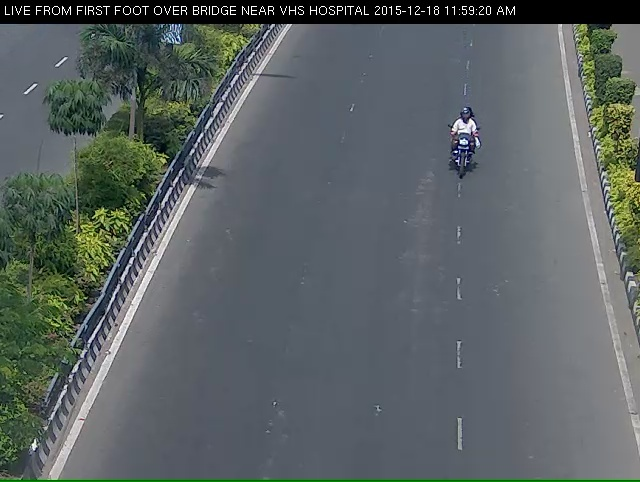Person: (442, 101, 483, 202)
